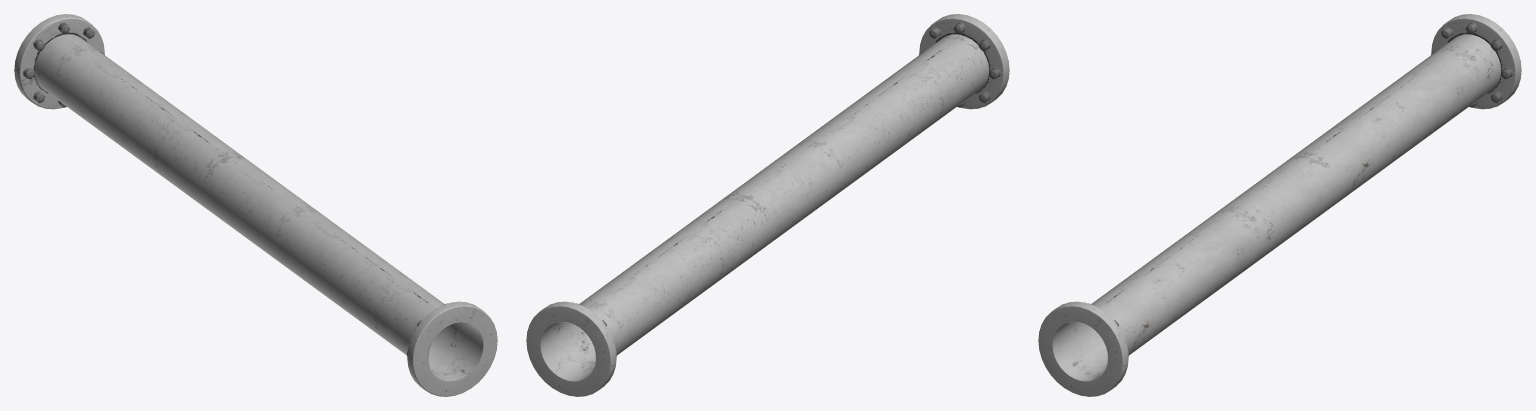
File: Modular_Small_Pipe_Straightsolo_5m.fbx
3 renders of one model, left to right at view 1: azimuth 30°, elevation 25°; view 2: azimuth 150°, elevation 25°; view 3: azimuth 330°, elevation 25°, orthographic.
Visible parts, largest first — view 1: Modular_Small_Pipe_Straight_5m_LOD0; view 2: Modular_Small_Pipe_Straight_5m_LOD0; view 3: Modular_Small_Pipe_Straight_5m_LOD0.
Part boxes in pixels (x1,y1,x2,y2): Modular_Small_Pipe_Straight_5m_LOD0: (14, 14, 497, 396); Modular_Small_Pipe_Straight_5m_LOD0: (526, 14, 1009, 396); Modular_Small_Pipe_Straight_5m_LOD0: (1038, 14, 1521, 396).
Size of what is drawn, in the model's own units: 0.617 by 0.617 by 5.
